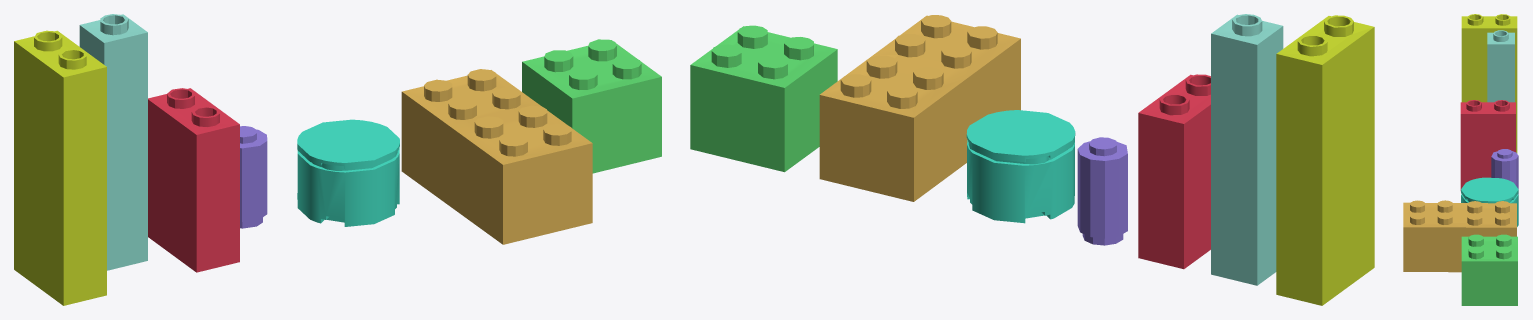
Rendered from lego_details 1.fbx.
3 views of the same model, side by side, from view 1: azimuth 30°, elevation 25°; view 2: azimuth 150°, elevation 25°; view 3: azimuth 270°, elevation 25° (orthographic). The views are drawn at different scales.
Visible parts, largest first — view 1: lego_brick, lego_detail4, lego_detail5, lego_brick2, lego_detail3, lego_detail, lego_detail2; view 2: lego_detail4, lego_brick, lego_detail3, lego_brick2, lego_detail5, lego_detail, lego_detail2; view 3: lego_brick, lego_brick2, lego_detail5, lego_detail4, lego_detail3, lego_detail, lego_detail2.
Boxes of the visible parts, <box> form: lego_brick: <box>401,69,592,244</box>; lego_detail4: <box>14,30,106,305</box>; lego_detail5: <box>148,88,239,272</box>; lego_brick2: <box>522,39,661,173</box>; lego_detail3: <box>79,14,147,270</box>; lego_detail: <box>297,119,399,226</box>; lego_detail2: <box>240,126,267,228</box>; lego_detail4: <box>1276,15,1374,305</box>; lego_brick: <box>819,15,1020,201</box>; lego_detail3: <box>1211,14,1283,285</box>; lego_brick2: <box>690,25,837,172</box>; lego_detail5: <box>1138,74,1210,269</box>; lego_detail: <box>966,110,1075,223</box>; lego_detail2: <box>1077,137,1127,245</box>; lego_brick: <box>1403,200,1516,272</box>; lego_brick2: <box>1461,234,1517,305</box>; lego_detail5: <box>1460,100,1515,190</box>; lego_detail4: <box>1461,14,1517,153</box>; lego_detail3: <box>1487,30,1514,102</box>; lego_detail: <box>1461,177,1518,226</box>; lego_detail2: <box>1491,149,1518,194</box>.
Size of the model in its own units: 63.97 by 24.46 by 19.07.
